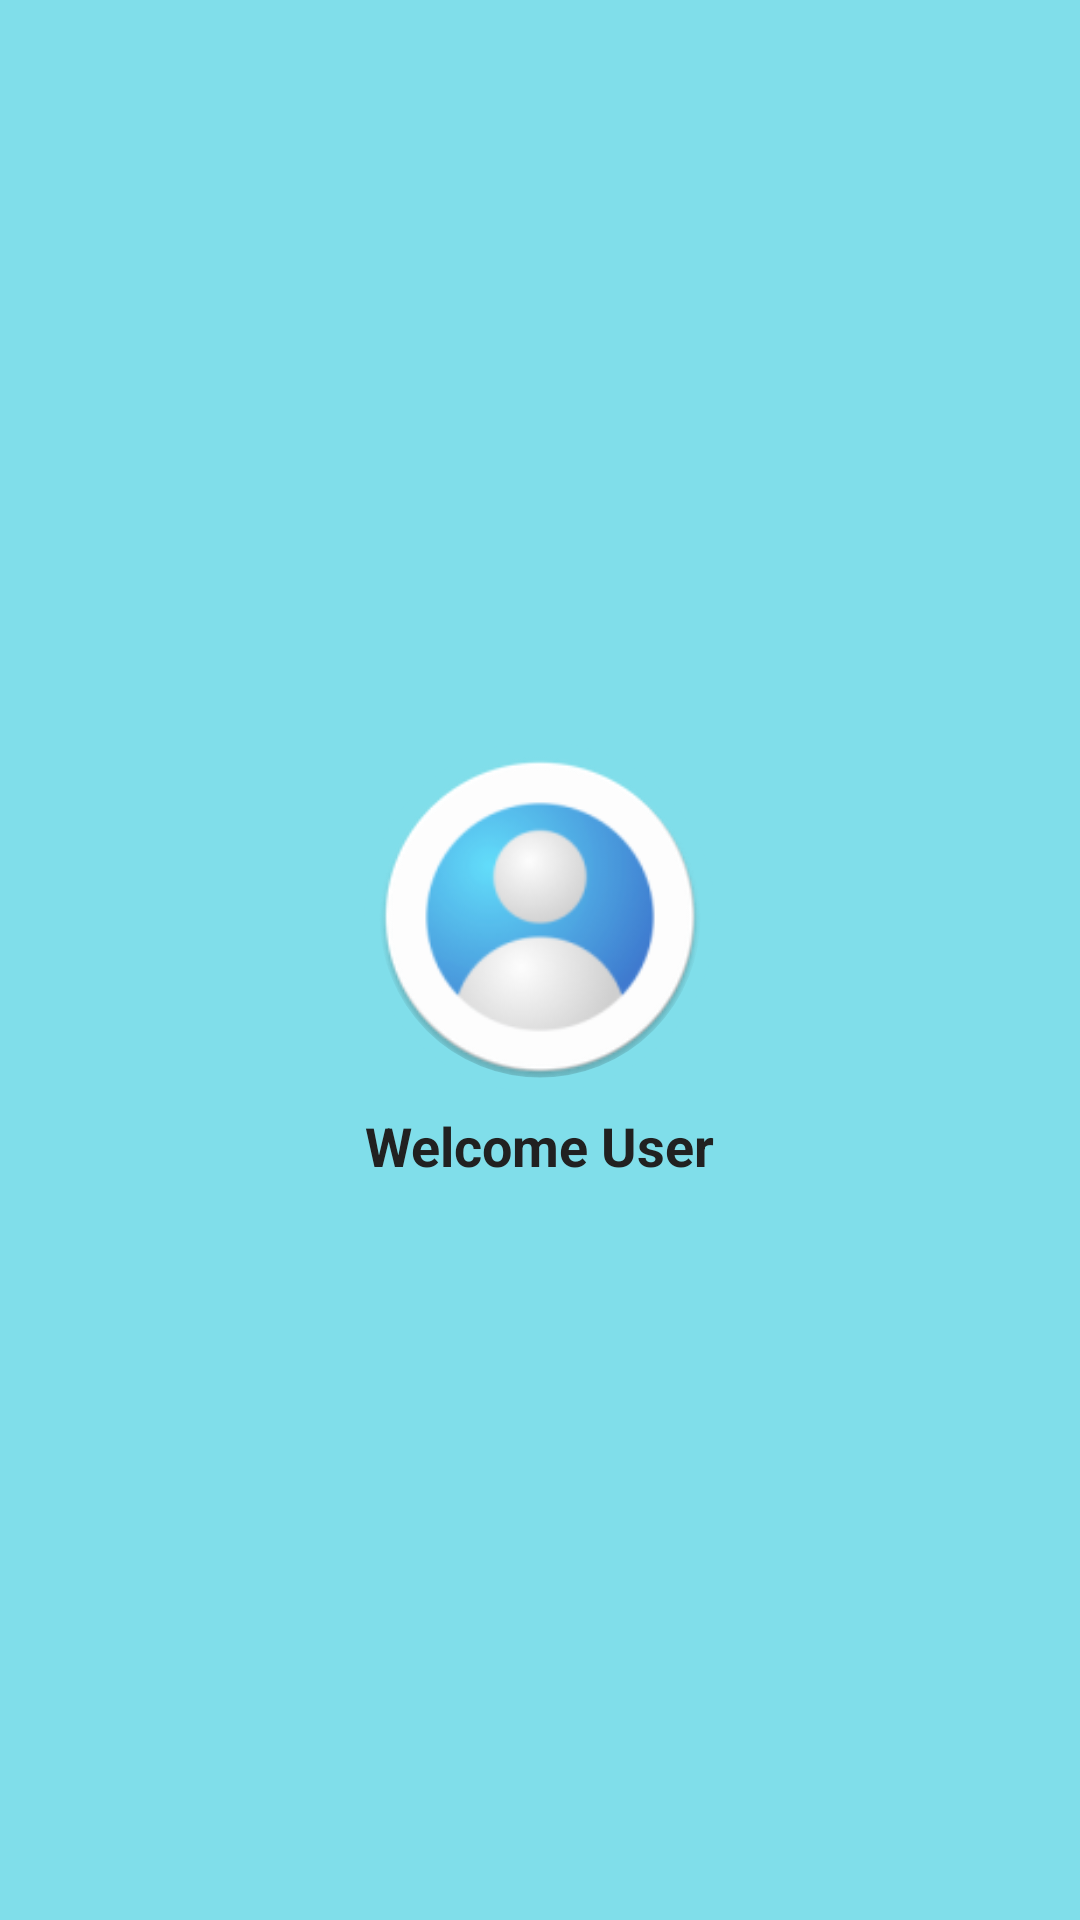

Named icons in this screenshot (1080×1920) and their centers, [x,y]:
profile round: [540,919]
